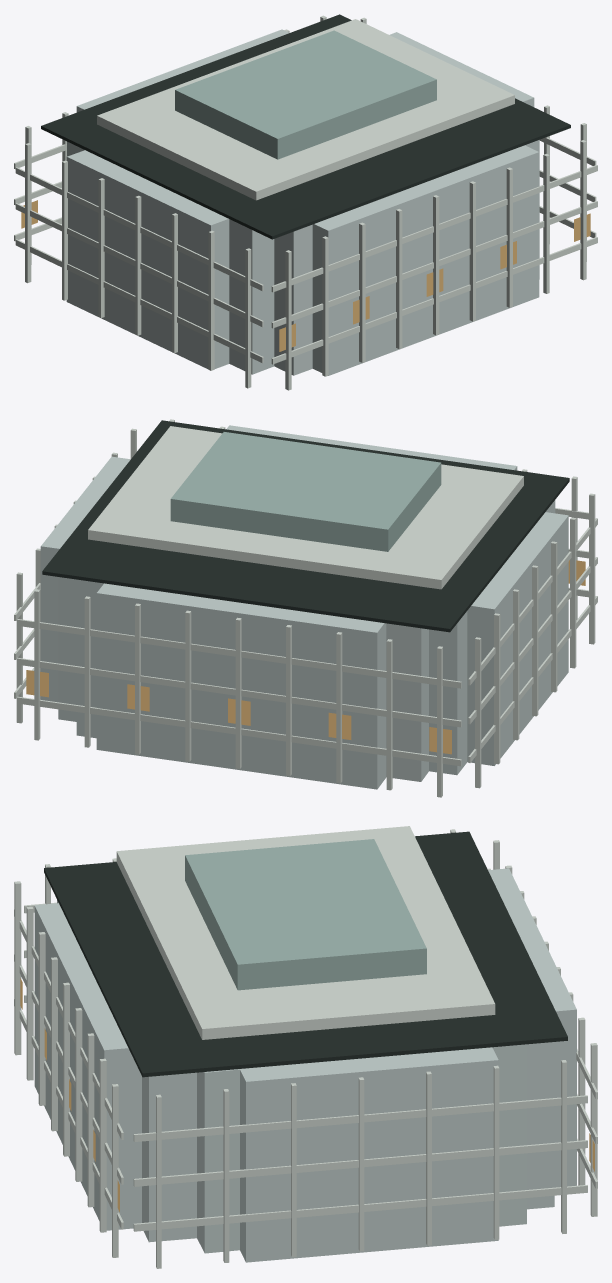
File: szu-performance.glb
3 views of the same model, one above another, from view 1: azimuth 30°, elevation 25°; view 2: azimuth 150°, elevation 25°; view 3: azimuth 270°, elevation 25° (orthographic). The views are drawn at different scales.
Visible parts, largest first — view 1: envelope, roof_deck, crown_box, crown_box.001, fins, floor_bands, night_windows; view 2: envelope, roof_deck, crown_box, crown_box.001, fins, floor_bands, night_windows; view 3: envelope, roof_deck, crown_box, crown_box.001, fins, floor_bands, night_windows.
Boxes of the visible parts, left/top/right/bottom form: envelope: left=66, top=29, right=539, bottom=375; roof_deck: left=41, top=14, right=570, bottom=239; crown_box: left=97, top=19, right=514, bottom=200; crown_box.001: left=175, top=30, right=436, bottom=159; fins: left=25, top=15, right=586, bottom=390; floor_bands: left=14, top=137, right=597, bottom=364; night_windows: left=21, top=200, right=590, bottom=351; envelope: left=40, top=425, right=568, bottom=789; roof_deck: left=42, top=420, right=569, bottom=632; crown_box: left=88, top=426, right=523, bottom=589; crown_box.001: left=170, top=432, right=441, bottom=551; fins: left=16, top=419, right=595, bottom=797; floor_bands: left=14, top=508, right=597, bottom=766; night_windows: left=26, top=560, right=585, bottom=754; envelope: left=34, top=868, right=576, bottom=1262; roof_deck: left=44, top=831, right=567, bottom=1077; crown_box: left=116, top=826, right=495, bottom=1039; crown_box.001: left=185, top=839, right=426, bottom=990; fins: left=14, top=829, right=597, bottom=1268; floor_bands: left=14, top=868, right=597, bottom=1231; night_windows: left=20, top=978, right=594, bottom=1212.
Size of the model in its own units: 73.95 by 30.4 by 67.94.
